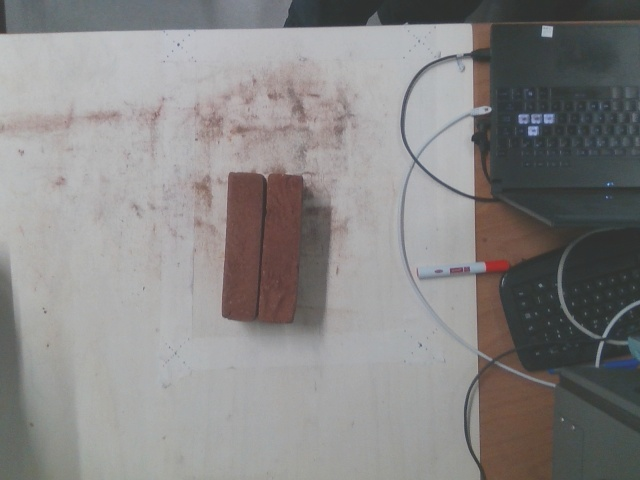brick-side: (220, 173, 265, 318), (258, 176, 302, 320)
